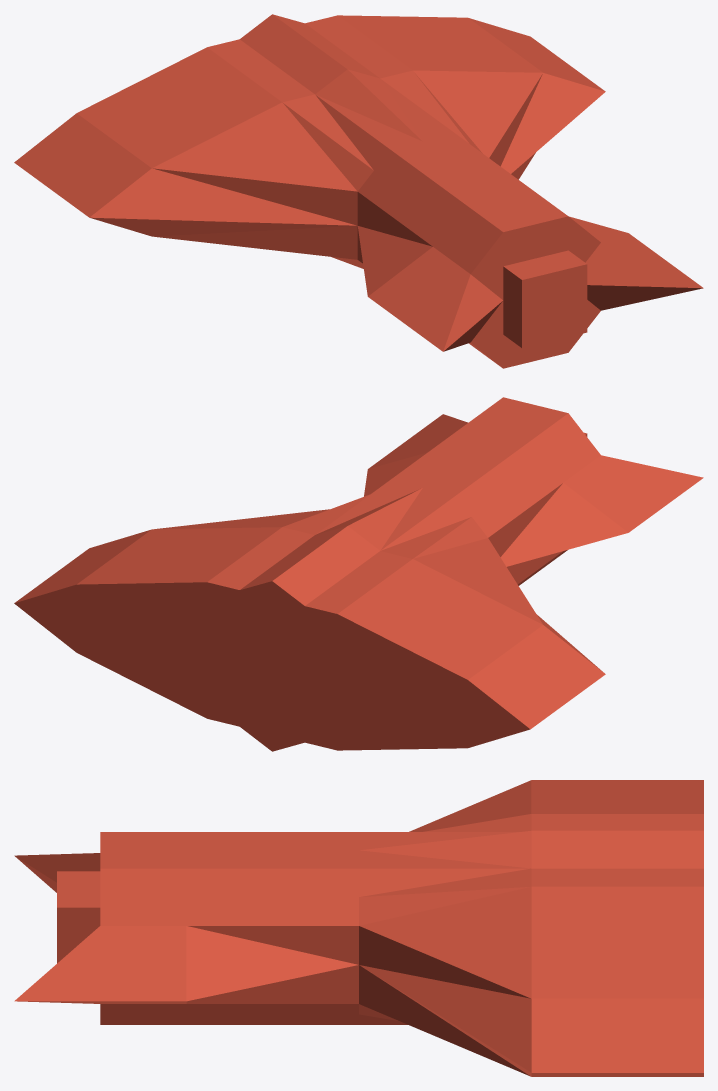
The model's file is Enemy.obj.
3 renders of one model, top to bottom at view 1: azimuth 30°, elevation 25°; view 2: azimuth 150°, elevation 25°; view 3: azimuth 270°, elevation 25°, orthographic. The views are drawn at different scales.
Visible parts, largest first — view 1: Cube; view 2: Cube; view 3: Cube.
Part boxes in pixels (<box>): Cube: <box>14,14,703,368</box>; Cube: <box>14,397,703,751</box>; Cube: <box>14,780,703,1076</box>.
Bounding box in the file's own units: 7.92 × 2.5 × 8.
Materials: 1 (1 with a texture image).
